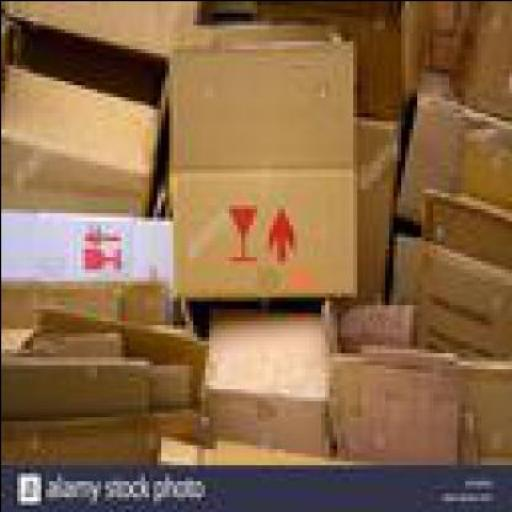cardboard: (1, 1, 510, 457), (164, 112, 392, 297), (160, 16, 352, 164), (1, 59, 164, 204), (316, 340, 508, 460), (196, 296, 328, 452), (252, 0, 408, 121), (408, 184, 508, 364), (388, 84, 508, 228), (1, 198, 169, 300), (328, 344, 468, 460), (0, 292, 185, 360), (2, 399, 204, 460), (1, 1, 196, 64), (8, 300, 196, 360), (1, 347, 148, 412), (444, 0, 508, 121), (208, 428, 324, 460), (344, 292, 408, 348), (414, 1, 456, 68), (20, 327, 120, 352), (152, 356, 193, 404), (388, 223, 412, 296)
